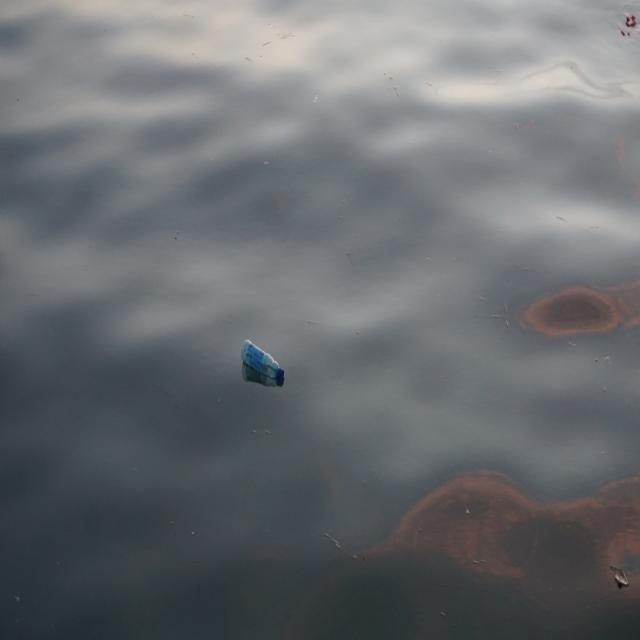Botol Plastik: (239, 336, 288, 389)
